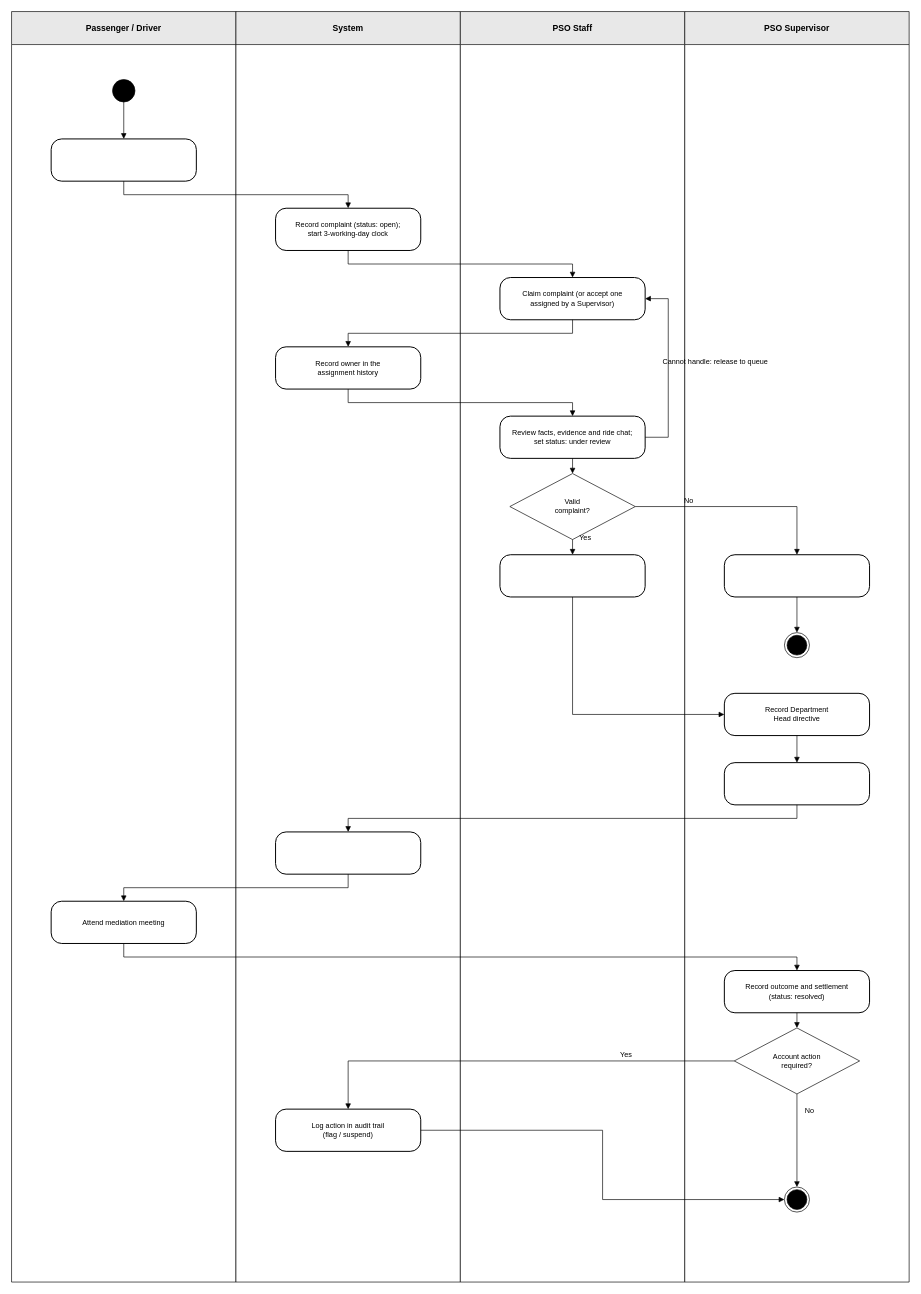
This 921x1294 diagram has some shape labels left out. The shapes that lost their labels are listed below. From the top down, each one's centre as x and y in pixels, then its label:
At point (123, 159): "Submit complaint (category, subject, message, evidence)".
At point (572, 575): "Escalate (status: escalated)".
At point (797, 575): "Record resolution: dismissed (note required)".
At point (796, 645): "Dismissed".
At point (797, 783): "Schedule mediation meeting (date, time, venue)".
At point (348, 852): "Status: mediation scheduled; notify both parties".
At point (796, 1199): "Resolved".
